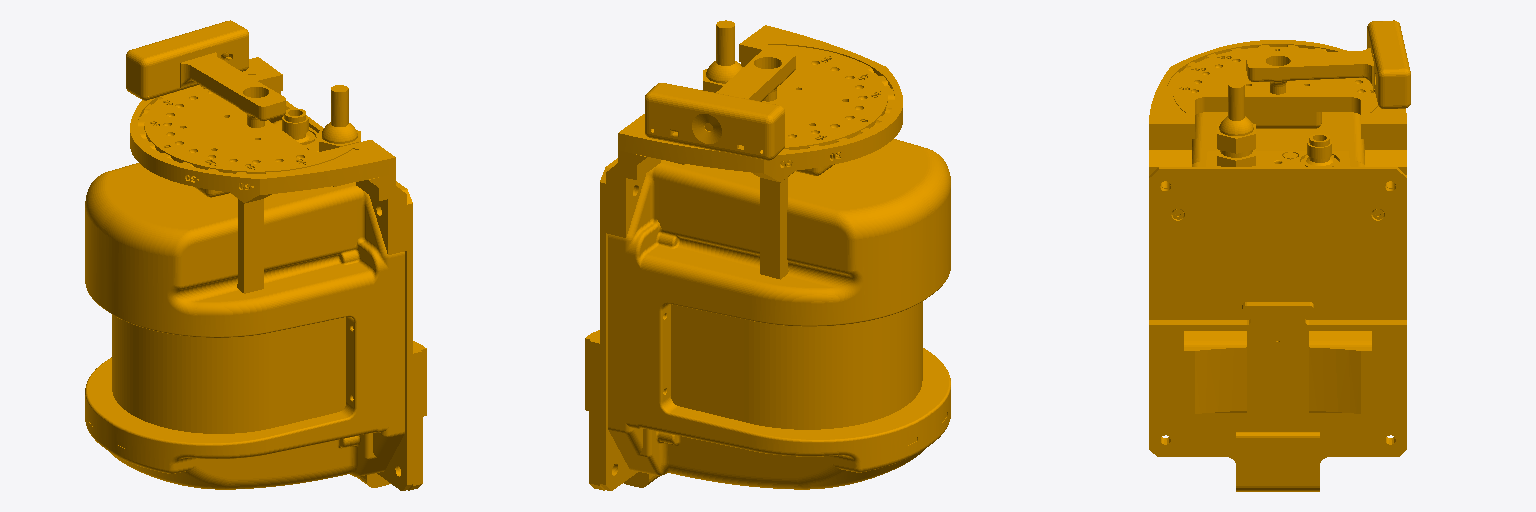
URDF robot description (DataLogger):
<?xml version="1.0"?>
<robot name="DataLogger">
  <link name="base_link">
    <visual>
      <geometry>
	<!--<mesh filename="package://div_datalogger_postprocess/meshes/Lidar_Imu.stl" scale="0.01 0.01 0.01"/> -->
	<mesh filename="package://div_datalogger_postprocess/meshes/DataLogger_ImuFrame.stl" scale="0.01 0.01 0.01"/>
	<origin rpy="0 0 0" xyz="0 0 0"/>
<!-- LidarImu.stl"/> -->
      </geometry>
    </visual>
  </link>

<link name="laser">
    <visual>
      <geometry>
       <cylinder length="0.06" radius="0.02"/>
      </geometry>
	<!--<origin rpy="0 3.14 0" xyz="-0.017 0.055 -0.01175"/> -->
    <origin rpy="0 0 0" xyz="0 0 0"/>
    </visual>
  </link>

  <joint name="laser_to_camera" type="fixed">
    <parent link="base_link"/>
    <child link="laser"/>
	<!-- <origin rpy="3.14 0 3.14" xyz="0 0 -0.1004"/> -->
  	<!--<origin rpy="3.08 0 3.14" xyz="0 0 -0.1004"/>-->
	<!-- <origin rpy="3.0803662551197895 -0.0002771390638497799 2.1965107437291076" xyz="0 0 -0.1004"/> -->
	<origin rpy="3.14 0.008 3.14" xyz="0 0 -0.1004"/>
  </joint>

</robot>

--- What the picture shows (computed from the rendered views, not written in the file) ---
3 views of the same robot in one strip: view 1: azimuth 30°, elevation 25°; view 2: azimuth 150°, elevation 25°; view 3: azimuth 270°, elevation 25° (orthographic).
Robot: DataLogger — 2 links, 1 joints (1 fixed); root link base_link; default pose: every joint at zero.
Visible links, largest first — view 1: base_link; view 2: base_link; view 3: base_link.
Boxes of the visible links, x1,y1,x2,y2 form: base_link: (85, 20, 426, 490); base_link: (585, 20, 950, 490); base_link: (1149, 20, 1410, 491).
Bounding box of the posed robot: 0.1425 × 0.1258 × 0.207 m (x, y, z).
1 mesh visuals loaded from 1 distinct referenced files (1 binary STL).